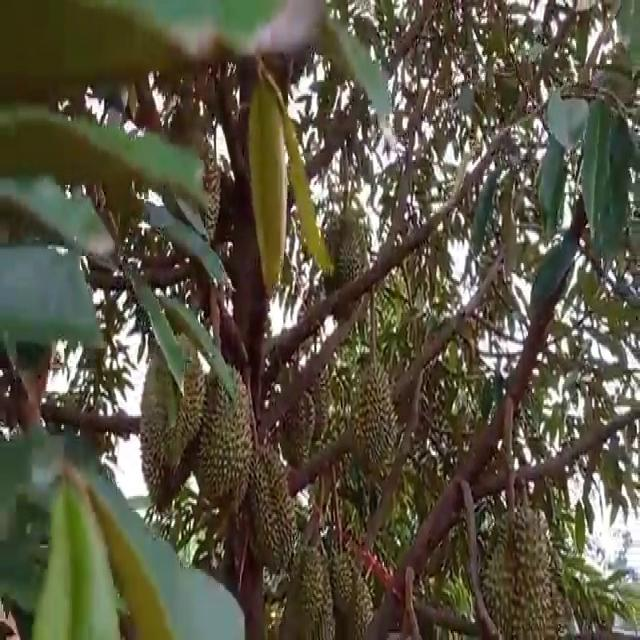durian: (470, 499, 573, 638), (134, 319, 206, 515), (184, 355, 256, 518), (240, 432, 298, 581), (342, 357, 404, 487), (320, 207, 376, 326), (284, 537, 339, 637), (276, 378, 319, 468), (322, 543, 362, 622)
